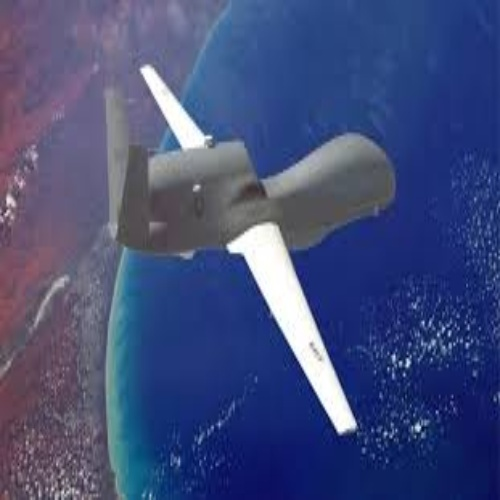uav342: (100, 62, 400, 434)
